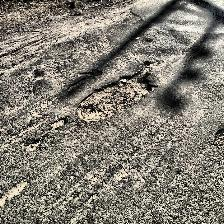pothole: (78, 59, 158, 123), (0, 174, 32, 206), (66, 68, 104, 94), (48, 117, 68, 130), (214, 128, 224, 154)
